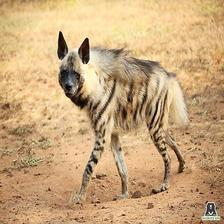hyena: (53, 30, 198, 203)
